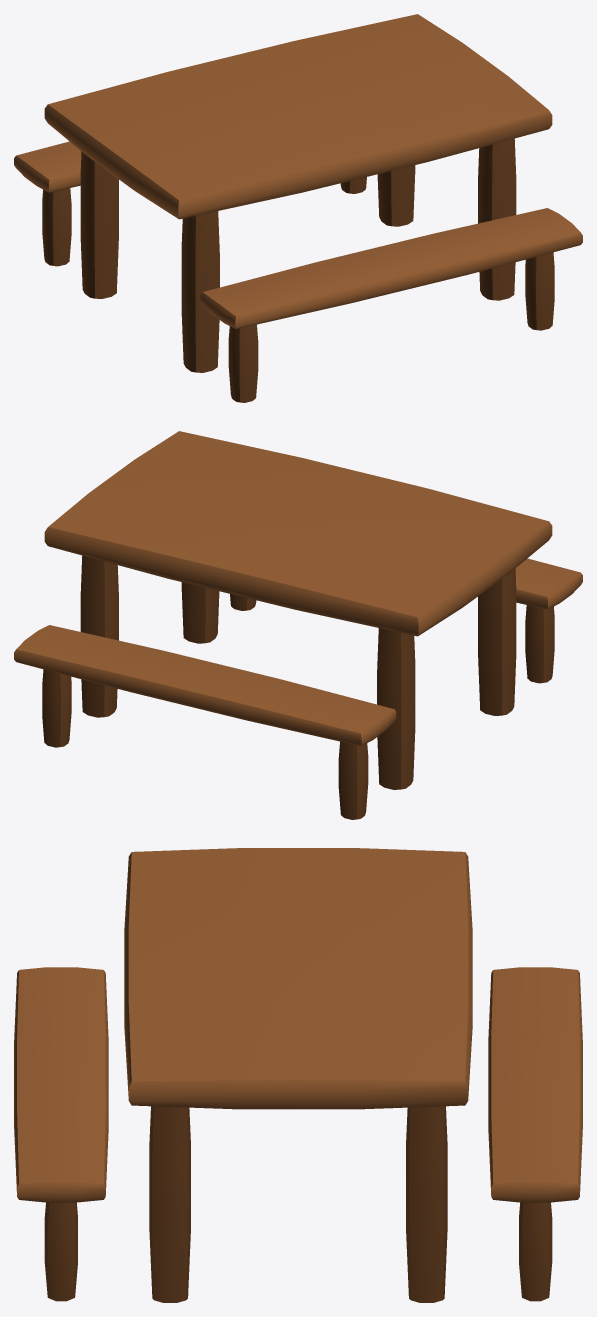
Rendered from table.glb.
The picture shows the model from 3 angles, top to bottom: view 1: azimuth 30°, elevation 25°; view 2: azimuth 150°, elevation 25°; view 3: azimuth 270°, elevation 25°; orthographic projection. The views are drawn at different scales.
Visible parts, largest first — view 1: WoodenTable; view 2: WoodenTable; view 3: WoodenTable.
Part boxes in pixels (box(x1,y1,x2,y2)): WoodenTable: box(14, 14, 582, 402); WoodenTable: box(14, 431, 582, 819); WoodenTable: box(14, 848, 582, 1302).
Bounding box in the file's own units: 2 × 0.975 × 2.04.
